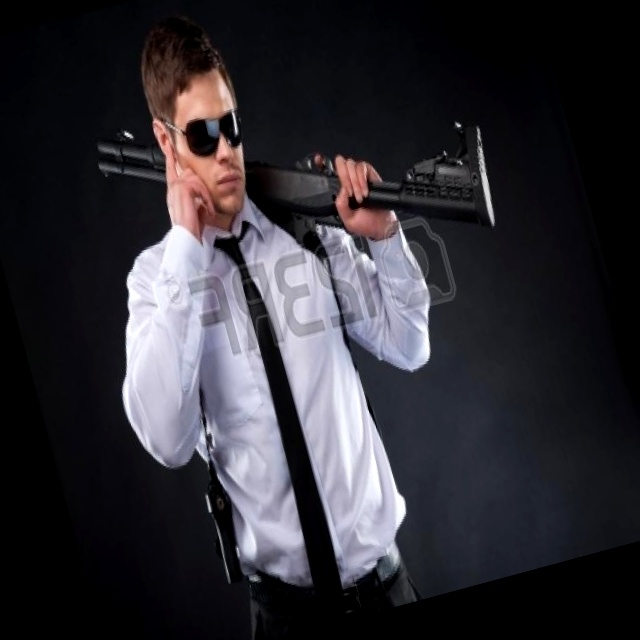gun: (86, 34, 514, 335)
